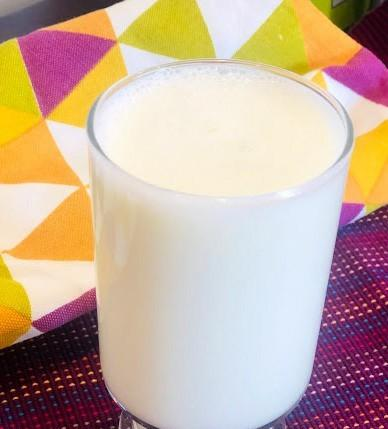Lassi: (90, 64, 346, 429)
